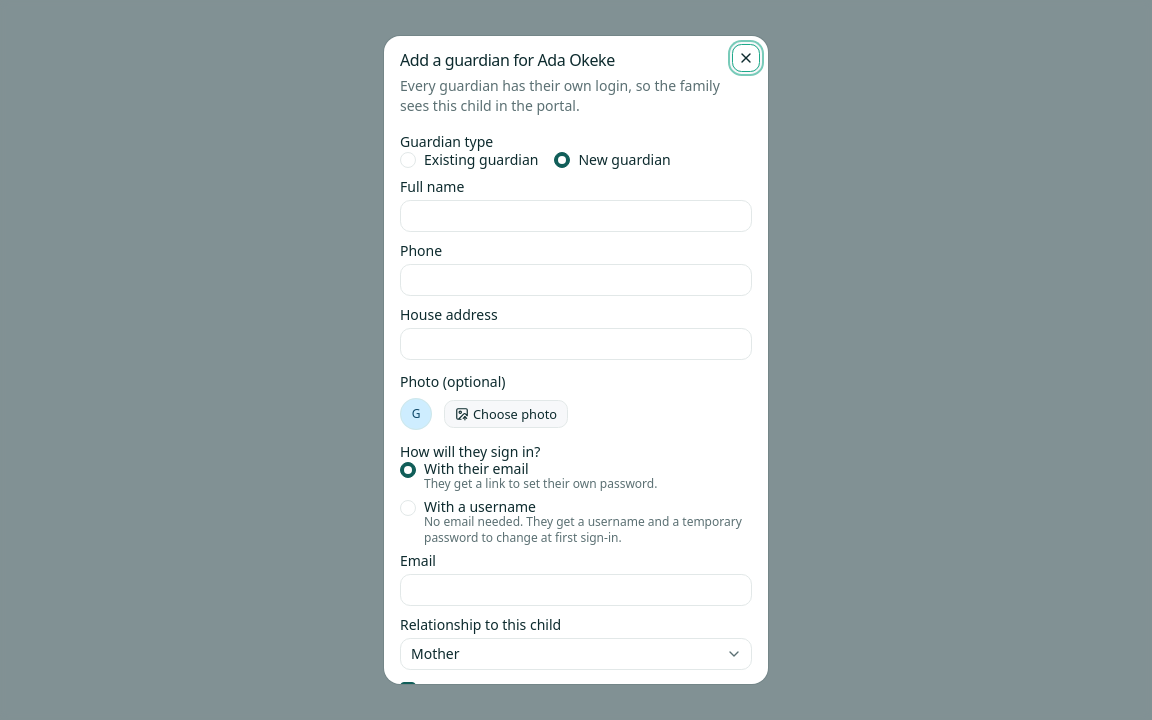
Test case: AddGuardianDialog › shows the server refusal inline
This screenshot has width=1152, height=720.
Type "Mrs Udoh" into the field labelled "Full name" at (576, 216), box [400, 200, 752, 232]
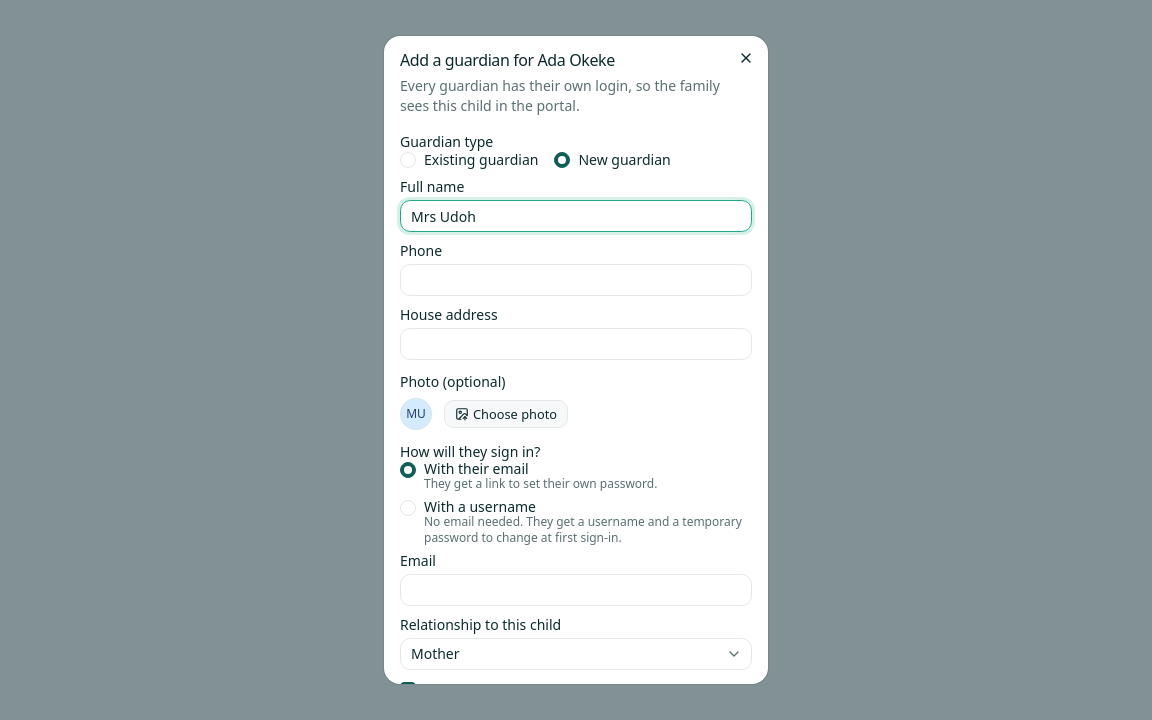
Type "08012345678" into the field labelled "Phone" at (576, 280), box [400, 264, 752, 296]
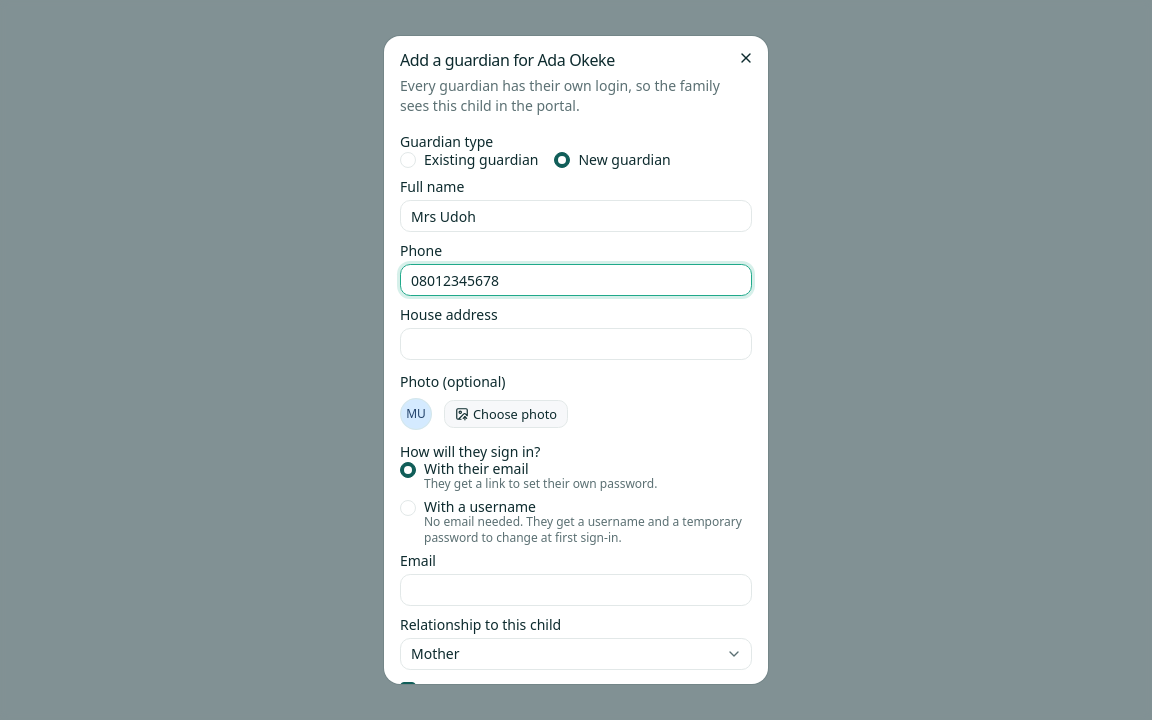
Type "4 Palm Close" into the field labelled "House address" at (576, 344), box [400, 328, 752, 360]
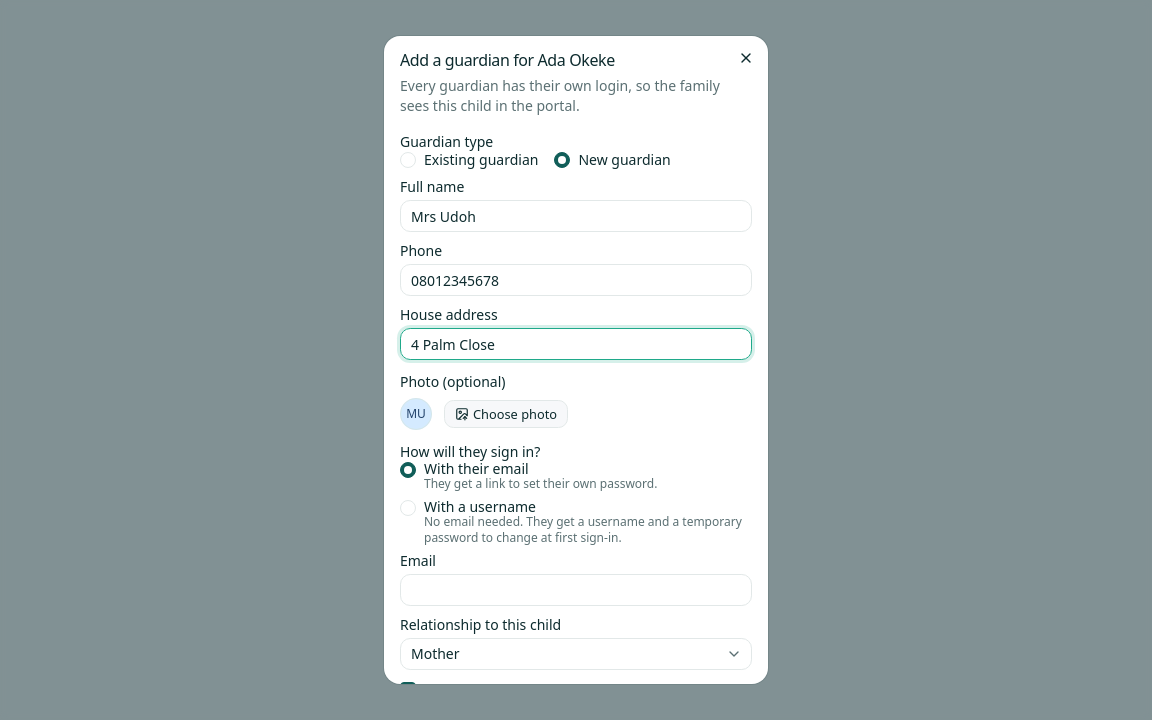
Type "udoh@example.test" into the field labelled "Email" at (576, 590), box [400, 574, 752, 606]
(page scrolled)
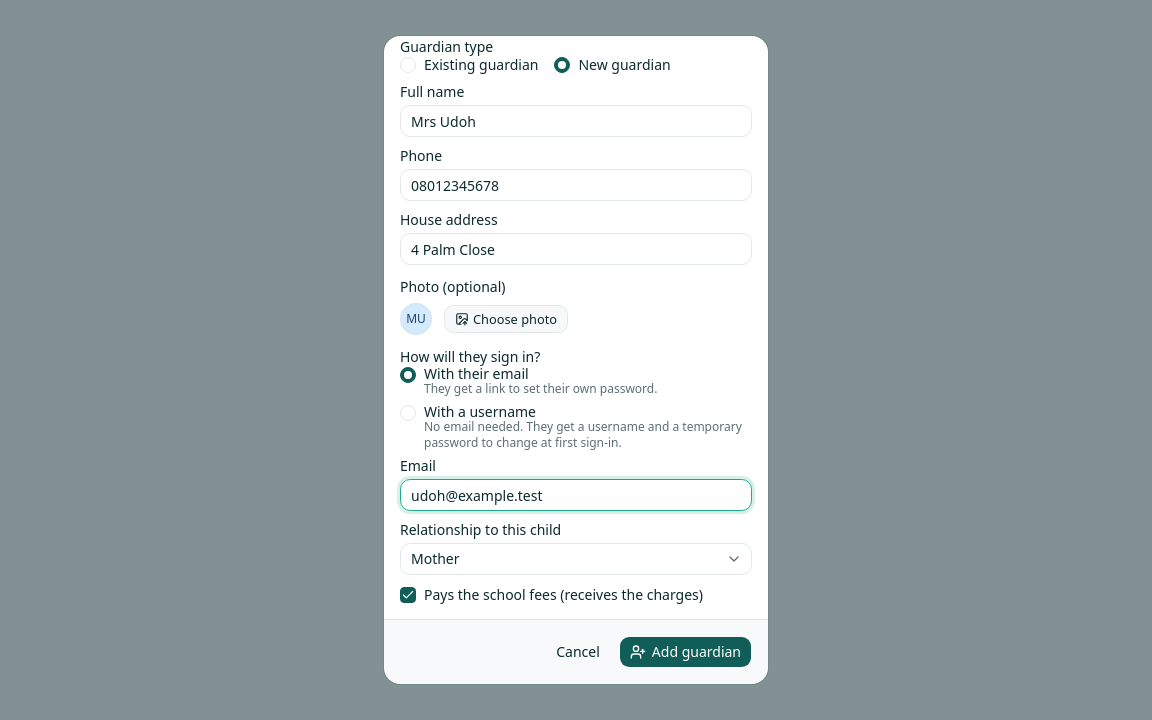
Click the button "Add guardian" at (685, 652), box [619, 636, 752, 668]
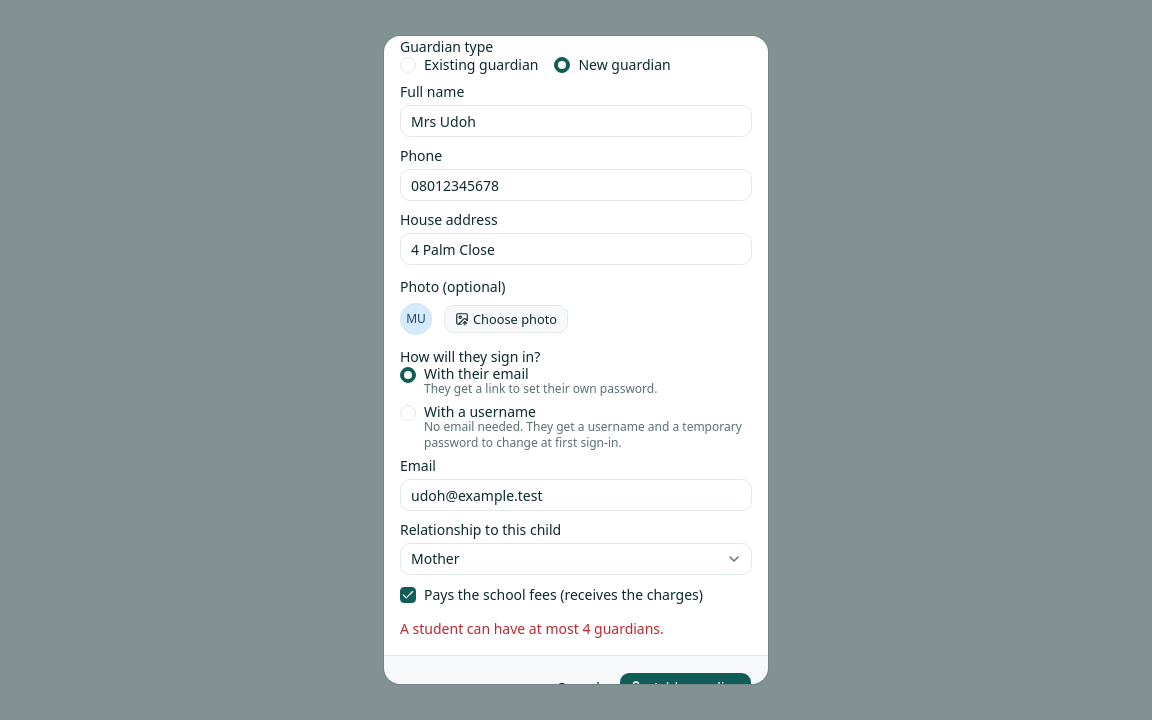
Now the text "A student can have at most 4 guardians." is shown, box [400, 619, 664, 638]
